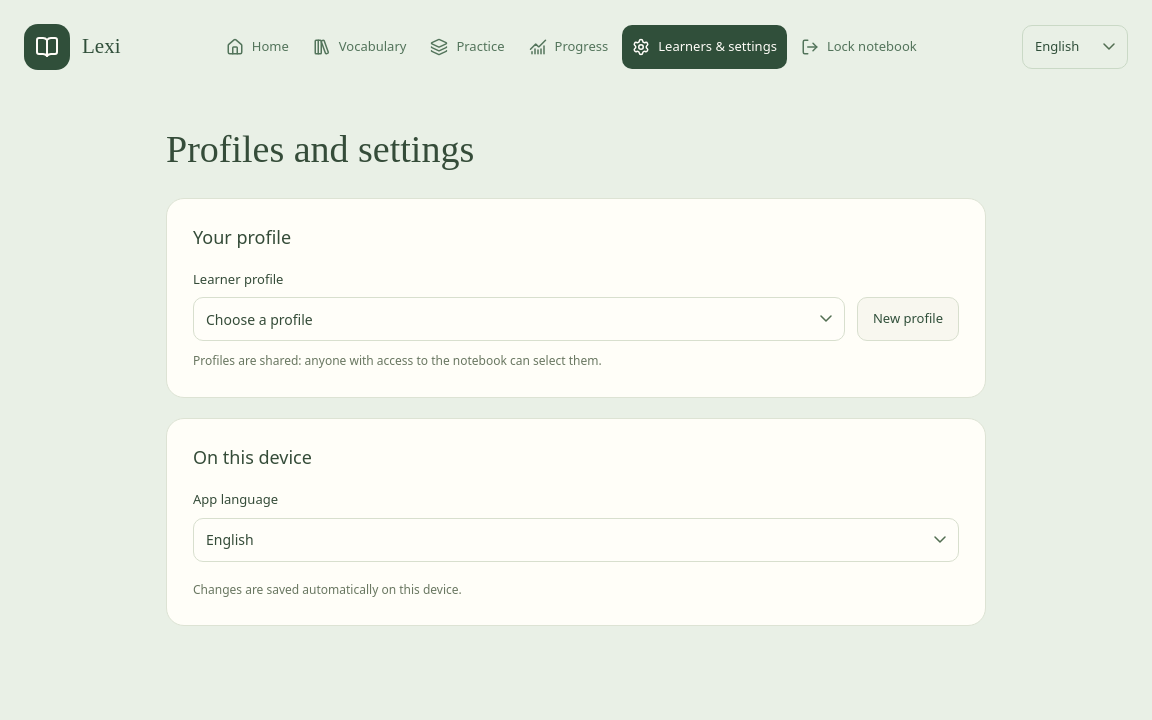
it: settings heading precedes both full-width sections when there are no profiles
The width and height of the screenshot is (1152, 720).
Check: the field labelled "Name" is not shown
Check: the text "Changes are saved automatically on this device." is shown, box [193,581,462,598]
Step 1. Click the button "New profile" → coordinates (908, 319), box [857,297,959,341]
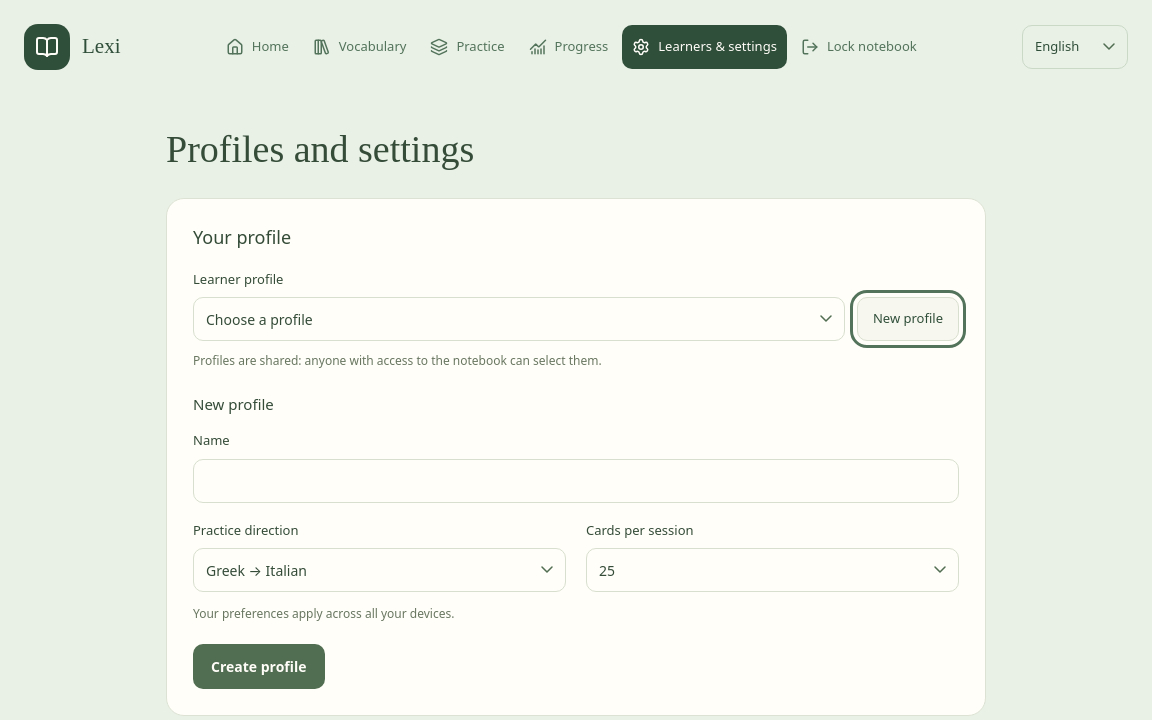
Check: the dropdown labelled "Cards per session" shows "25", box [586,548,959,592]
